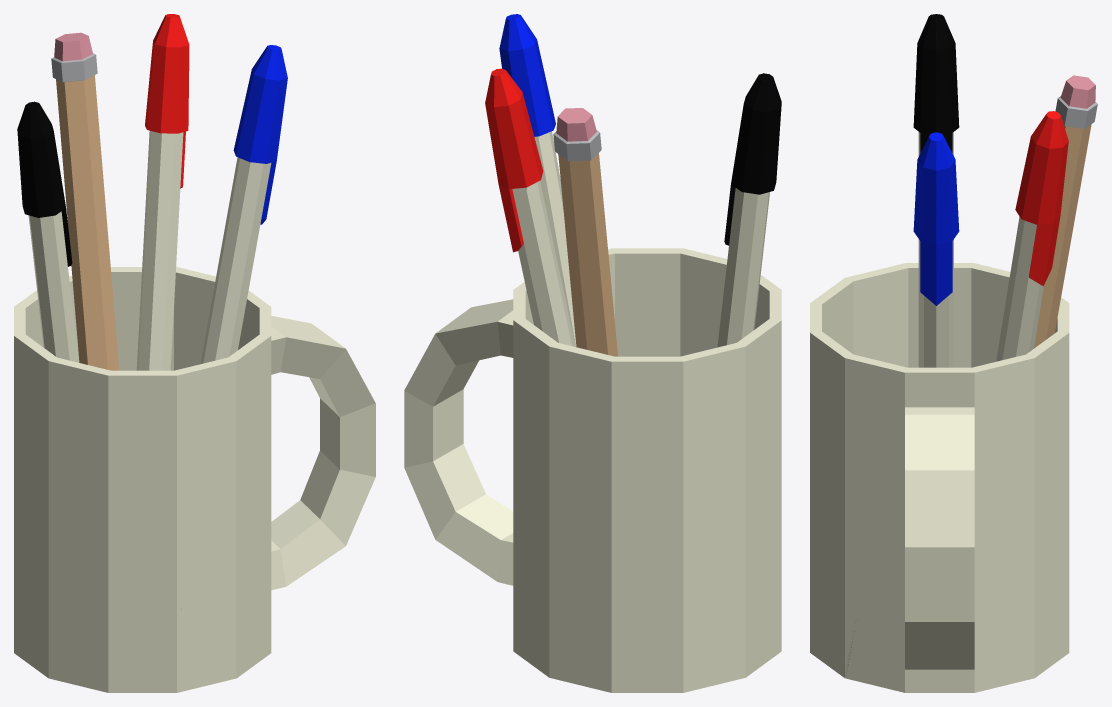
Rendered from Mug&Pencil_White.fbx.
3 views of the same model, side by side, from view 1: azimuth 30°, elevation 25°; view 2: azimuth 150°, elevation 25°; view 3: azimuth 270°, elevation 25° (orthographic). The views are drawn at different scales.
Parts seen in each view (by area): view 1: Mug/Pencil; view 2: Mug/Pencil; view 3: Mug/Pencil.
Part boxes in pixels (x1,y1,x2,y2): Mug/Pencil: (14, 14, 375, 692); Mug/Pencil: (404, 14, 781, 692); Mug/Pencil: (810, 14, 1097, 692).
Bounding box in the file's own units: 11.25 × 17.73 × 8.14.
